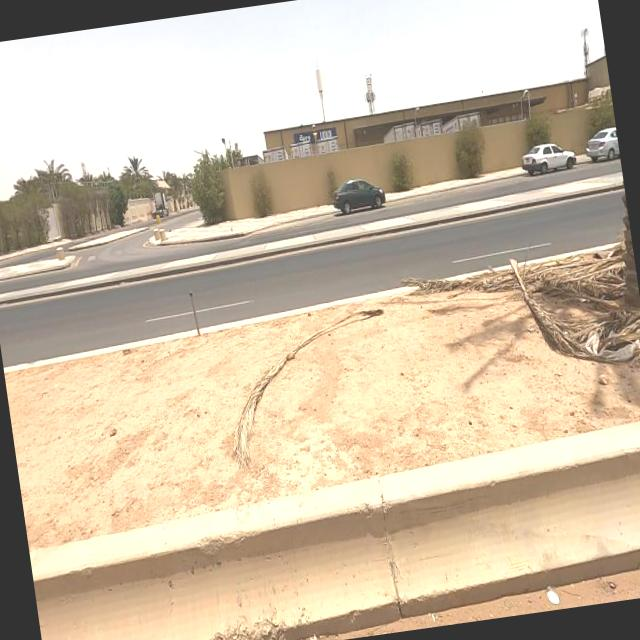debris: (156, 244, 410, 488), (478, 210, 640, 445)
